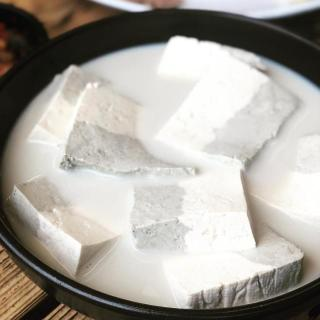Tahu: (11, 19, 320, 320)
